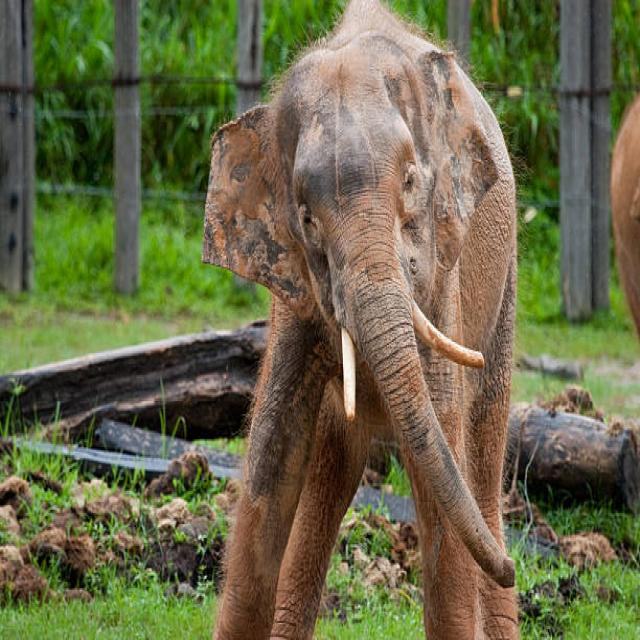Elephant: (196, 9, 542, 640)
